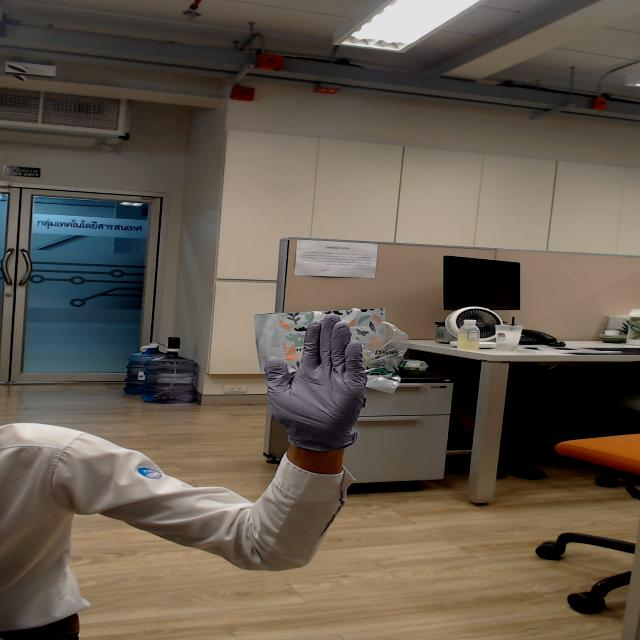glove: (236, 307, 416, 435)
